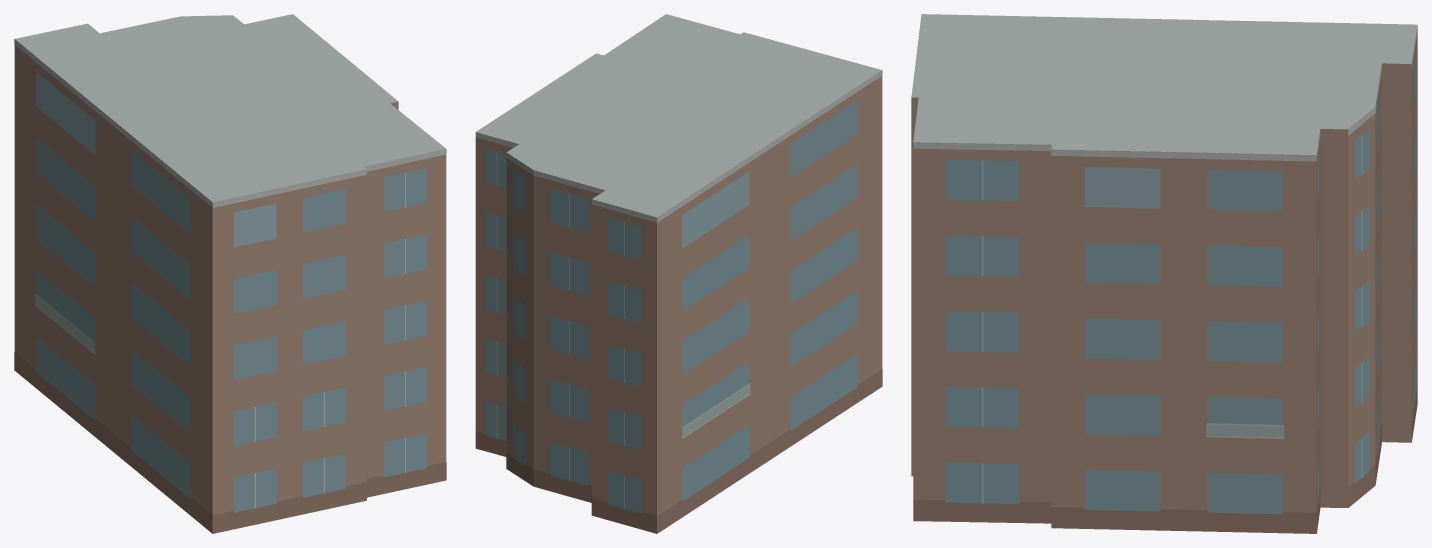
Rendered from survey-upis-32655659.glb.
3 renders of one model, left to right at view 1: azimuth 30°, elevation 25°; view 2: azimuth 150°, elevation 25°; view 3: azimuth 270°, elevation 25°, orthographic. The views are drawn at different scales.
Parts seen in each view (by area): view 1: survey-upis-32655659.tmp; view 2: survey-upis-32655659.tmp; view 3: survey-upis-32655659.tmp.
Boxes of the visible parts, x1,y1,x2,y2 form: survey-upis-32655659.tmp: (14, 14, 446, 533); survey-upis-32655659.tmp: (475, 14, 882, 533); survey-upis-32655659.tmp: (911, 14, 1417, 533).
Size of the model in its own units: 11.6 by 14.5 by 17.58.
